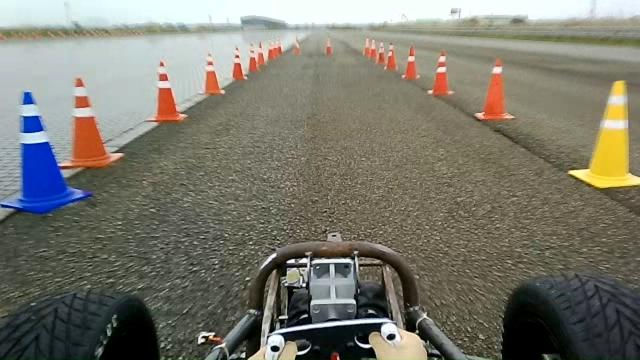blue cone: (1, 90, 93, 214), (22, 90, 36, 105)
red cone: (57, 76, 124, 169), (146, 60, 188, 122), (474, 58, 515, 121), (427, 49, 455, 96), (200, 51, 224, 95)
yellow cone: (567, 78, 639, 188)
